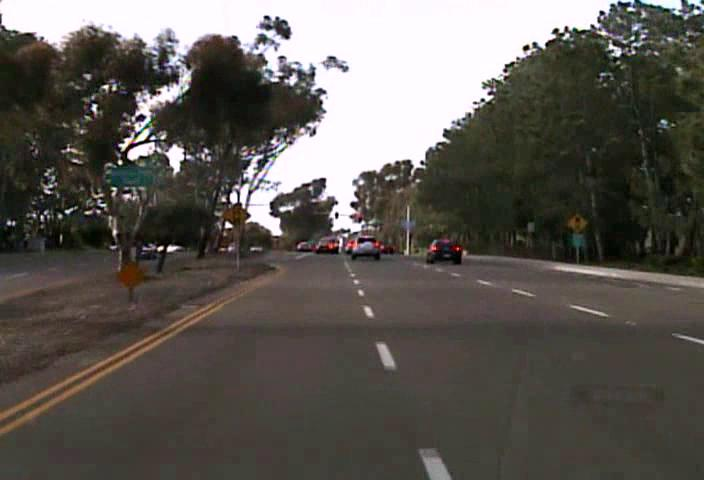signalAhead: (566, 212, 588, 234)
